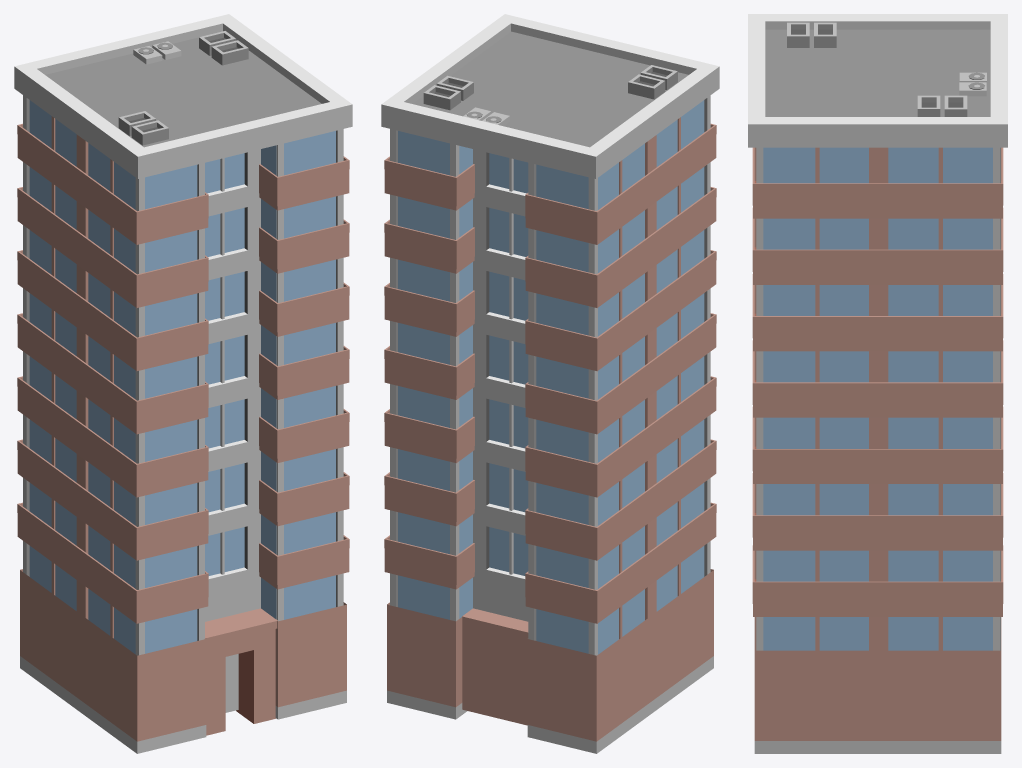
The model's file is house_middle_006.fbx.
The picture shows the model from 3 angles, left to right: view 1: azimuth 30°, elevation 25°; view 2: azimuth 150°, elevation 25°; view 3: azimuth 270°, elevation 25°; orthographic projection. The views are drawn at different scales.
Visible parts, largest first — view 1: house_middle_006; view 2: house_middle_006; view 3: house_middle_006.
Part boxes in pixels (box(x1,y1,x2,y2)): house_middle_006: box(14, 14, 352, 753); house_middle_006: box(381, 14, 719, 753); house_middle_006: box(748, 14, 1007, 753).
Size of the model in its own units: 723 by 1942 by 720.
